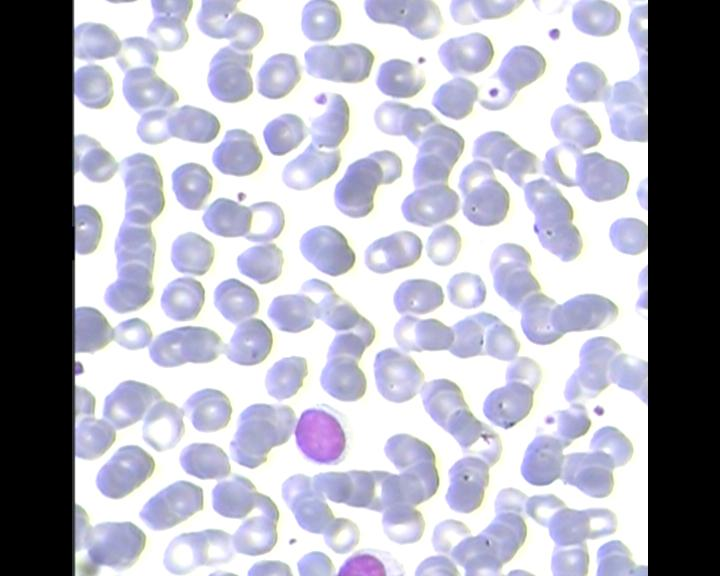lymp: (291, 400, 356, 473), (336, 548, 407, 576)
